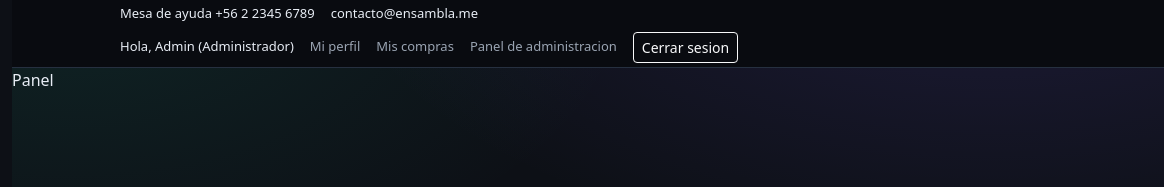
Test case: Header › cerrar sesion borra la sesion y lleva a la tienda publica
Click the button "Cerrar sesion" at (686, 47), box [633, 32, 738, 62]
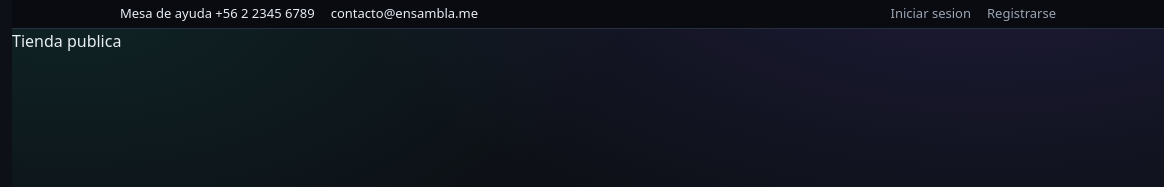
Now the text "Tienda publica" is shown, box [12, 30, 121, 52]
Now the link "Iniciar sesion" is shown, box [890, 4, 971, 24]
